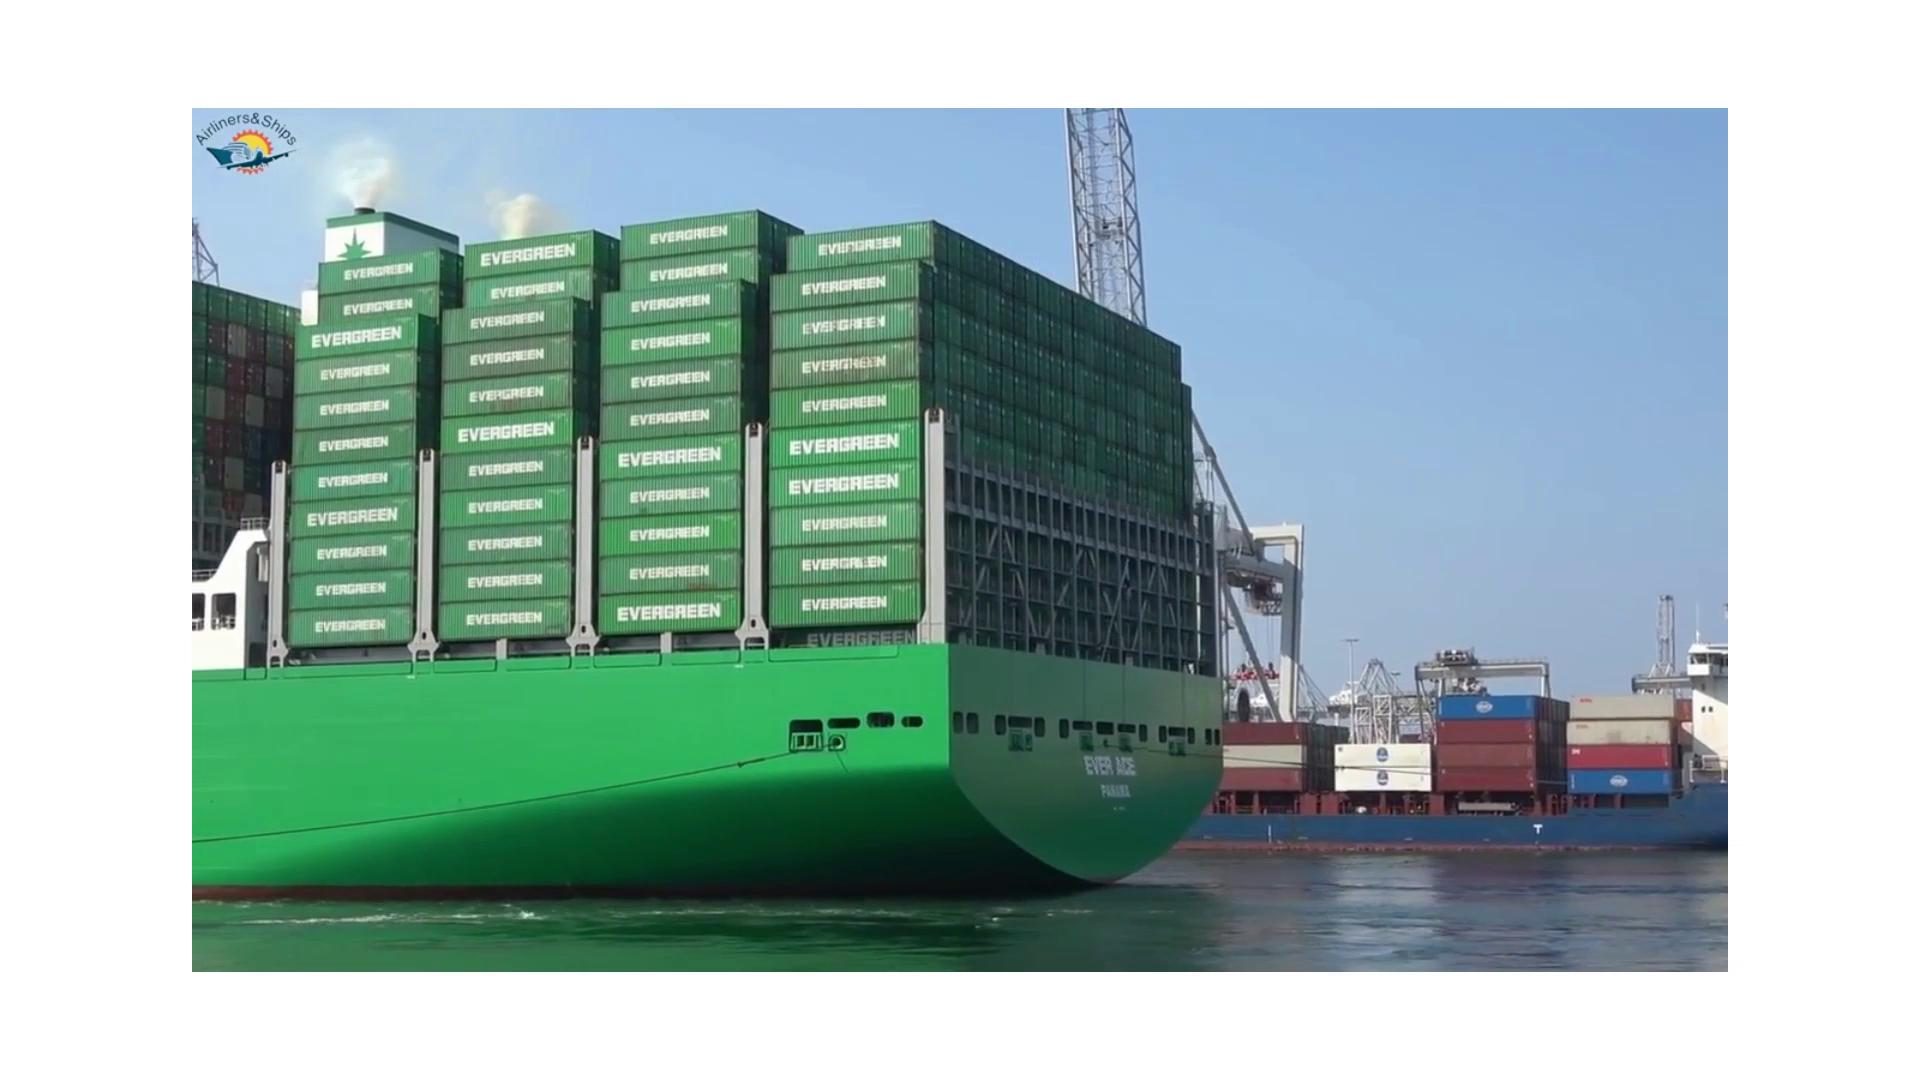OCR: (1038, 742, 1147, 815)
